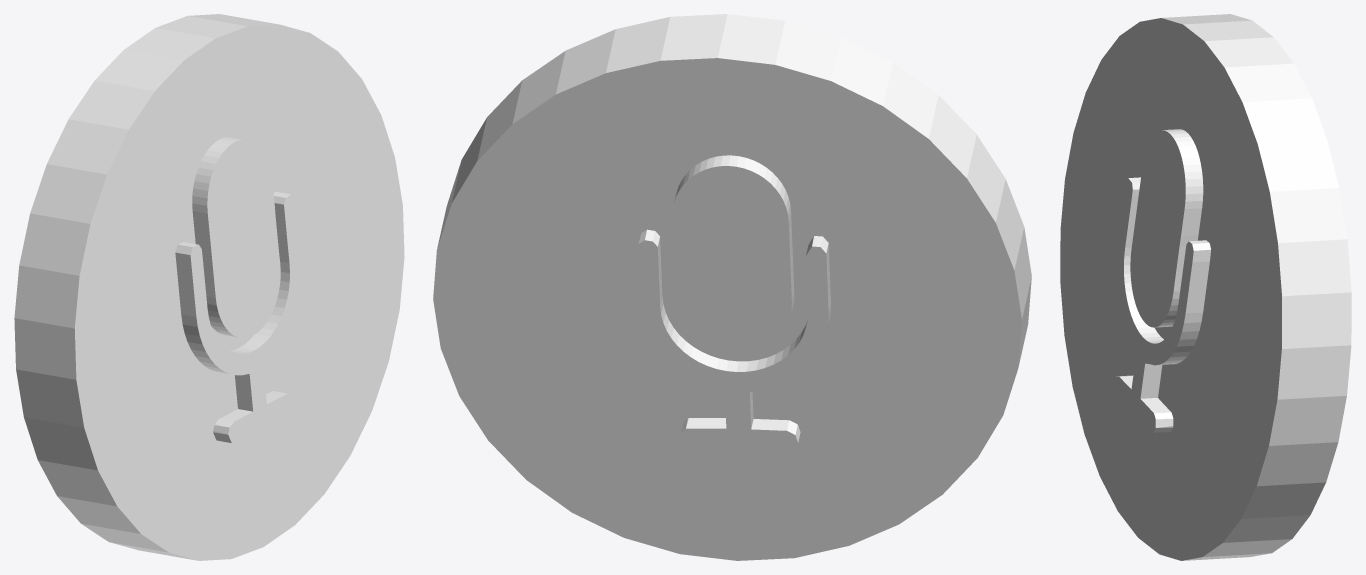
Rendered from mic.glb.
The picture shows the model from 3 angles, left to right: view 1: azimuth 30°, elevation 25°; view 2: azimuth 150°, elevation 25°; view 3: azimuth 270°, elevation 25°; orthographic projection. The views are drawn at different scales.
Parts seen in each view (by area): view 1: node_id5; view 2: node_id5; view 3: node_id5.
Part boxes in pixels (left/top/right/bottom): node_id5: left=14, top=14, right=404, bottom=560; node_id5: left=433, top=14, right=1031, bottom=560; node_id5: left=1060, top=14, right=1351, bottom=560.
Bounding box in the file's own units: 0.4992 × 0.5169 × 0.2742.
Materials: 1 (1 with a texture image).
